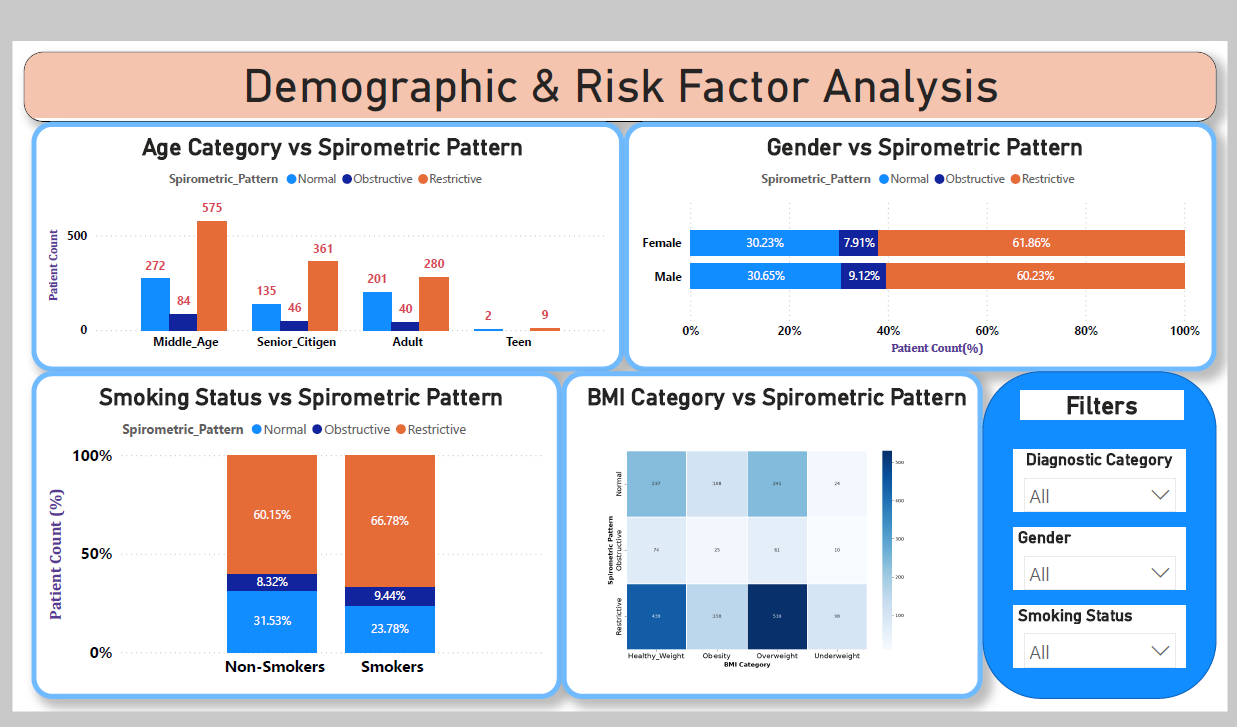

The dashboard page shown, as its layout file describes it:
{"tool":"powerbi","page":{"name":"Demographic & Risk Factor Analysis","canvas":[1280,720],"ordinal":1},"visuals":[{"type":"textbox","title":"Demographic & Risk Factor Analysis","box":[24,24,1224,72],"z":0},{"type":"clusteredColumnChart","title":"Age Category vs Spirometric Pattern","fields":{"Category":["Clinical_Analysis_of_ILD_Cleaned_Dataset.Age_Category"],"Y":["CountNonNull(Clinical_Analysis_of_ILD_Cleaned_Dataset.Patient_ID)"],"Series":["Clinical_Analysis_of_ILD_Cleaned_Dataset.Spirometric_Pattern"]},"box":[32,96,608,256],"z":1000},{"type":"hundredPercentStackedBarChart","title":"Gender vs Spirometric Pattern","fields":{"Category":["Clinical_Analysis_of_ILD_Cleaned_Dataset.Sex"],"Y":["CountNonNull(Clinical_Analysis_of_ILD_Cleaned_Dataset.Patient_ID)"],"Series":["Clinical_Analysis_of_ILD_Cleaned_Dataset.Spirometric_Pattern"]},"box":[640,96,608,256],"z":2000},{"type":"hundredPercentStackedColumnChart","title":"Smoking Status vs Spirometric Pattern","fields":{"Category":["Clinical_Analysis_of_ILD_Cleaned_Dataset.Smoking"],"Y":["CountNonNull(Clinical_Analysis_of_ILD_Cleaned_Dataset.Patient_ID)"],"Series":["Clinical_Analysis_of_ILD_Cleaned_Dataset.Spirometric_Pattern"]},"box":[32,352,544,336],"z":3000},{"type":"pythonVisual","title":"BMI Category vs Spirometric Pattern","fields":{"Values":["Clinical_Analysis_of_ILD_Cleaned_Dataset.BMI_Category","Clinical_Analysis_of_ILD_Cleaned_Dataset.Patient_ID","Clinical_Analysis_of_ILD_Cleaned_Dataset.Spirometric_Pattern"]},"box":[576,352,432,336],"z":4000},{"type":"shape","box":[1008,352,240,336],"z":5000},{"type":"textbox","title":"Filters","box":[1046.6,372.2,167,28.6],"z":6000},{"type":"slicer","title":"Diagnostic Category","fields":{"Values":["Clinical_Analysis_of_ILD_Cleaned_Dataset.Diagnostic_Category"]},"box":[1040,432,176,64],"z":7000},{"type":"slicer","title":"Gender","fields":{"Values":["Clinical_Analysis_of_ILD_Cleaned_Dataset.Sex"]},"box":[1040,512,176,64],"z":8000},{"type":"slicer","title":"Smoking Status","fields":{"Values":["Clinical_Analysis_of_ILD_Cleaned_Dataset.Smoking"]},"box":[1040,592,176,64],"z":9000}]}

Visuals, with their boxes on the page's 1280x720 design canvas (x1, y1, x2, y2). These are canvas units, not pixel positions in the 1237x727 screenshot, which may show the page scaled, cropped or inside an application window:
"Demographic & Risk Factor Analysis" textbox: detection(24, 24, 1248, 96)
"Age Category vs Spirometric Pattern" clusteredColumnChart: detection(32, 96, 640, 352)
"Gender vs Spirometric Pattern" hundredPercentStackedBarChart: detection(640, 96, 1248, 352)
"Smoking Status vs Spirometric Pattern" hundredPercentStackedColumnChart: detection(32, 352, 576, 688)
"BMI Category vs Spirometric Pattern" pythonVisual: detection(576, 352, 1008, 688)
shape: detection(1008, 352, 1248, 688)
"Filters" textbox: detection(1047, 372, 1214, 401)
"Diagnostic Category" slicer: detection(1040, 432, 1216, 496)
"Gender" slicer: detection(1040, 512, 1216, 576)
"Smoking Status" slicer: detection(1040, 592, 1216, 656)
